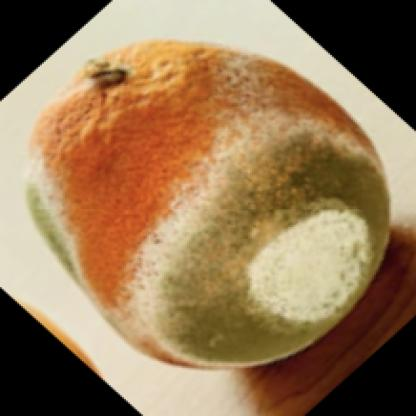rotten: (26, 40, 392, 370)
